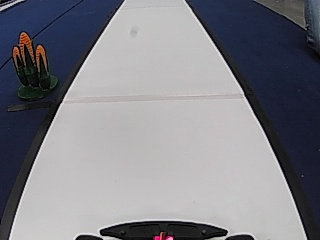corn: (9, 30, 58, 97)
